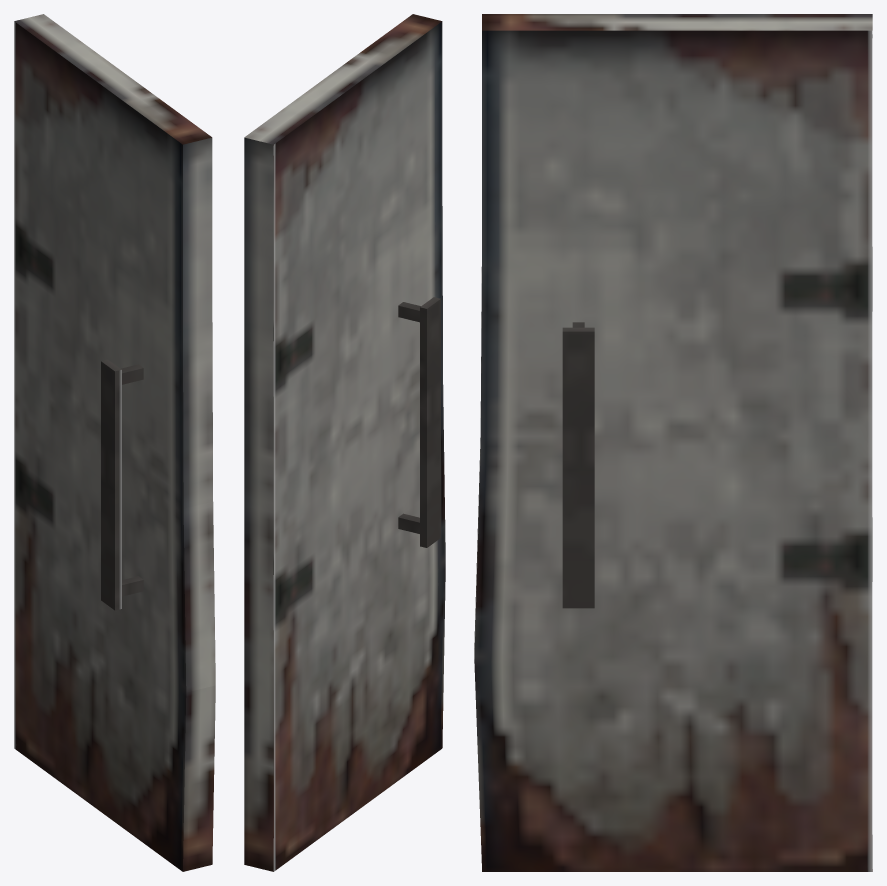
Rendered from SM_DOOR_A04.fbx.
The picture shows the model from 3 angles, left to right: view 1: azimuth 30°, elevation 25°; view 2: azimuth 150°, elevation 25°; view 3: azimuth 270°, elevation 25°; orthographic projection. The views are drawn at different scales.
Visible parts, largest first — view 1: SM_DOOR_A04; view 2: SM_DOOR_A04; view 3: SM_DOOR_A04.
Part boxes in pixels (<box>): SM_DOOR_A04: <box>14,14,215,871</box>; SM_DOOR_A04: <box>244,14,445,871</box>; SM_DOOR_A04: <box>474,14,872,871</box>.
Bounding box in the file's own units: 0.3246 × 2.35 × 1.01.
